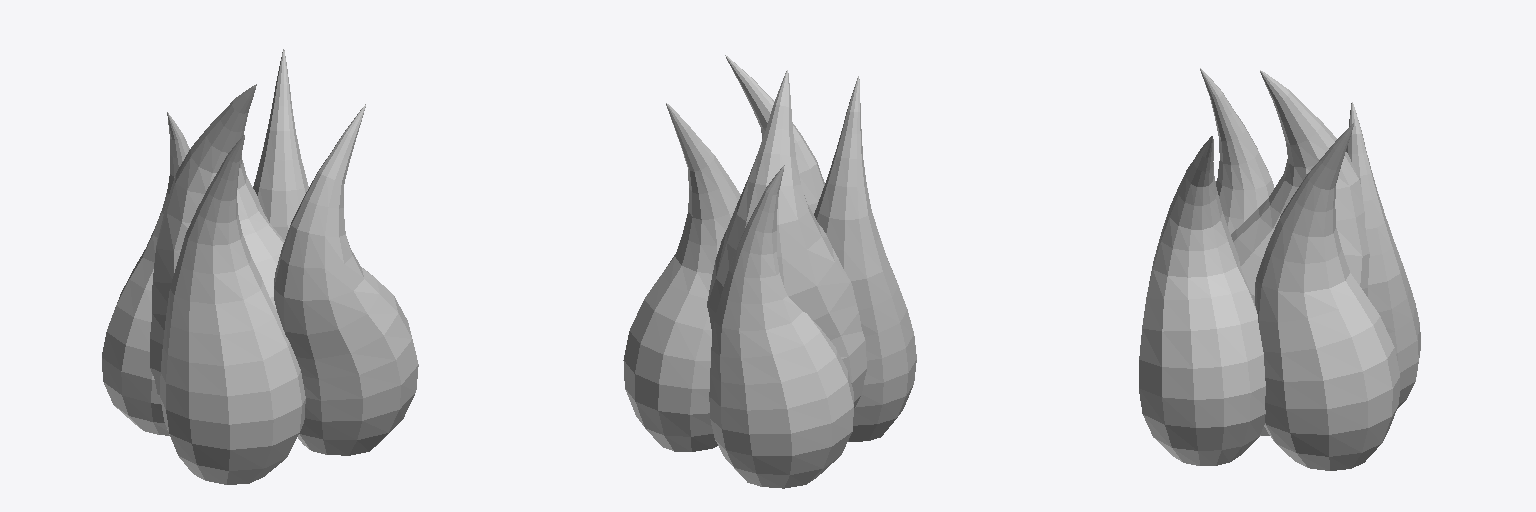
The model's file is fire_000013.obj.
The picture shows the model from 3 angles: view 1: azimuth 30°, elevation 25°; view 2: azimuth 150°, elevation 25°; view 3: azimuth 270°, elevation 25°; orthographic projection.
Parts seen in each view (by area): view 1: flame_NurbsPath.015; view 2: flame_NurbsPath.015; view 3: flame_NurbsPath.015.
Part boxes in pixels (x1,y1,x2,y2): flame_NurbsPath.015: (102,49,418,484); flame_NurbsPath.015: (623,55,916,488); flame_NurbsPath.015: (1139,68,1420,470).
Bounding box in the file's own units: 0.7546 × 1.14 × 0.8014.